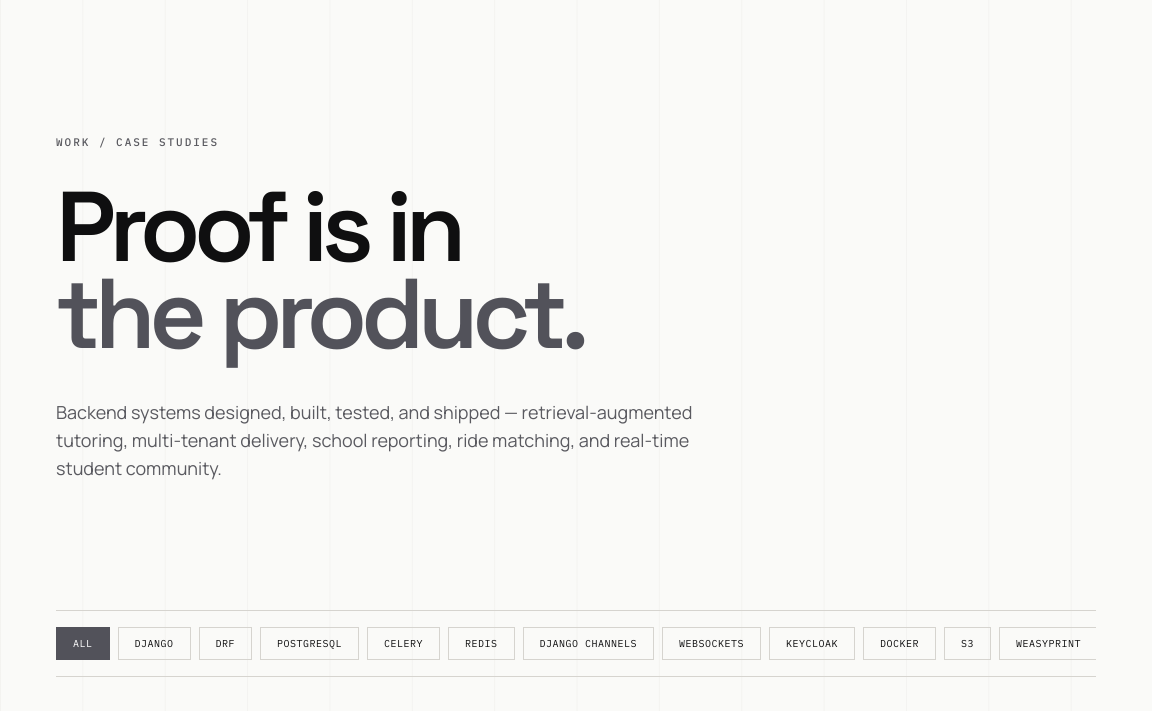
Scenario: projects lists every project and narrows to one when filtered
Click the button "WeasyPrint". click: (1048, 644)
box: [999,627,1098,660]
(page scrolled)
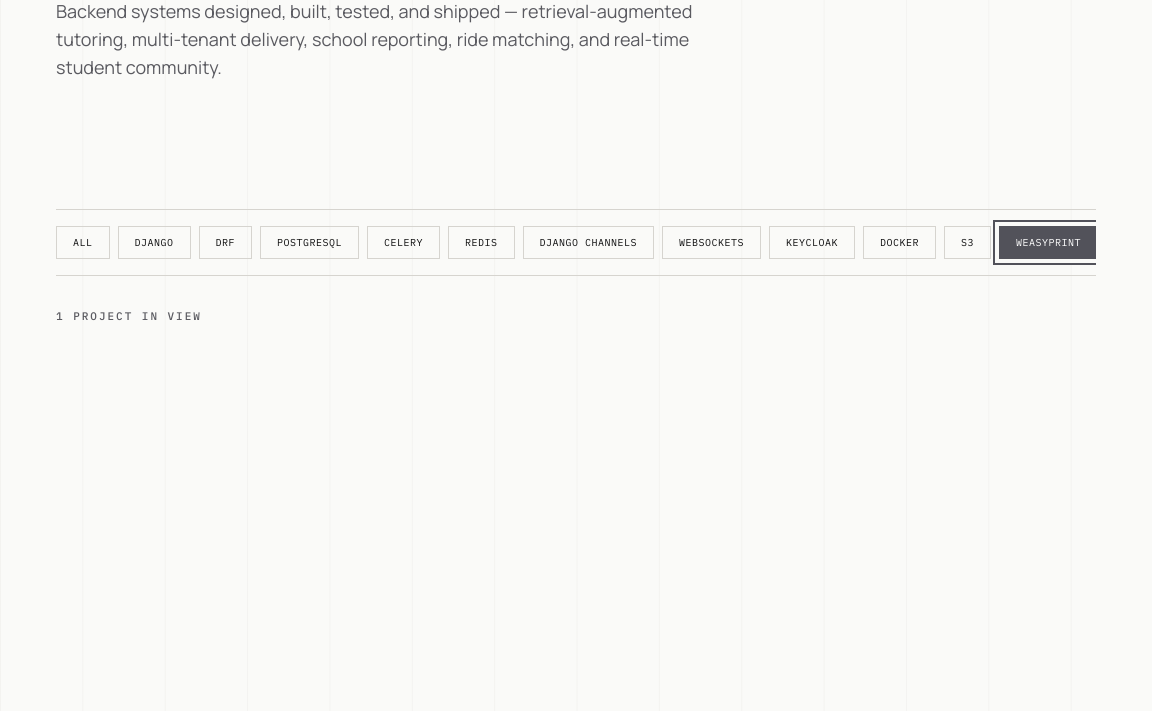
Expected: the text "1 project in view" is shown, [56,309,202,323]
